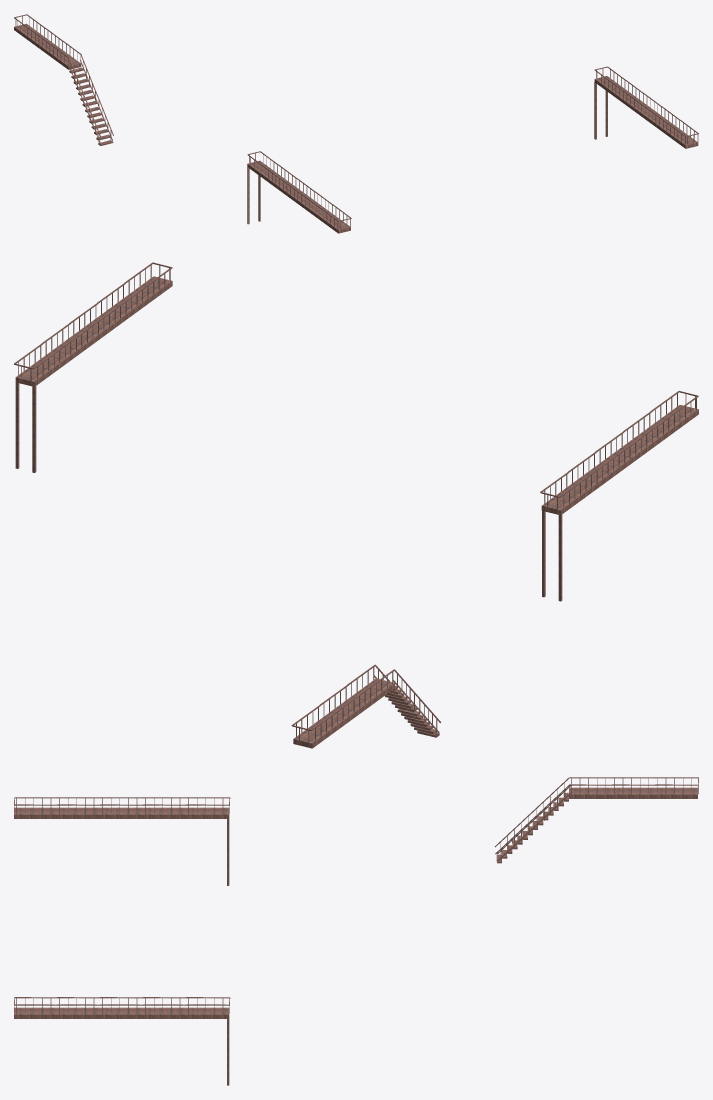
Rendered from world03_walkways.glb.
The picture shows the model from 3 angles, top to bottom: view 1: azimuth 30°, elevation 25°; view 2: azimuth 150°, elevation 25°; view 3: azimuth 270°, elevation 25°; orthographic projection. The views are drawn at different scales.
Visible parts, largest first — view 1: Prop.world03_walkways; view 2: Prop.world03_walkways; view 3: Prop.world03_walkways.
Boxes of the visible parts, box(x1,y1,x2,y2) form: Prop.world03_walkways: box(14, 14, 698, 233); Prop.world03_walkways: box(14, 262, 698, 748); Prop.world03_walkways: box(14, 777, 698, 1085).
Bounding box in the file's own units: 25.06 × 4.18 × 31.85.
1 material, 1 textured.
